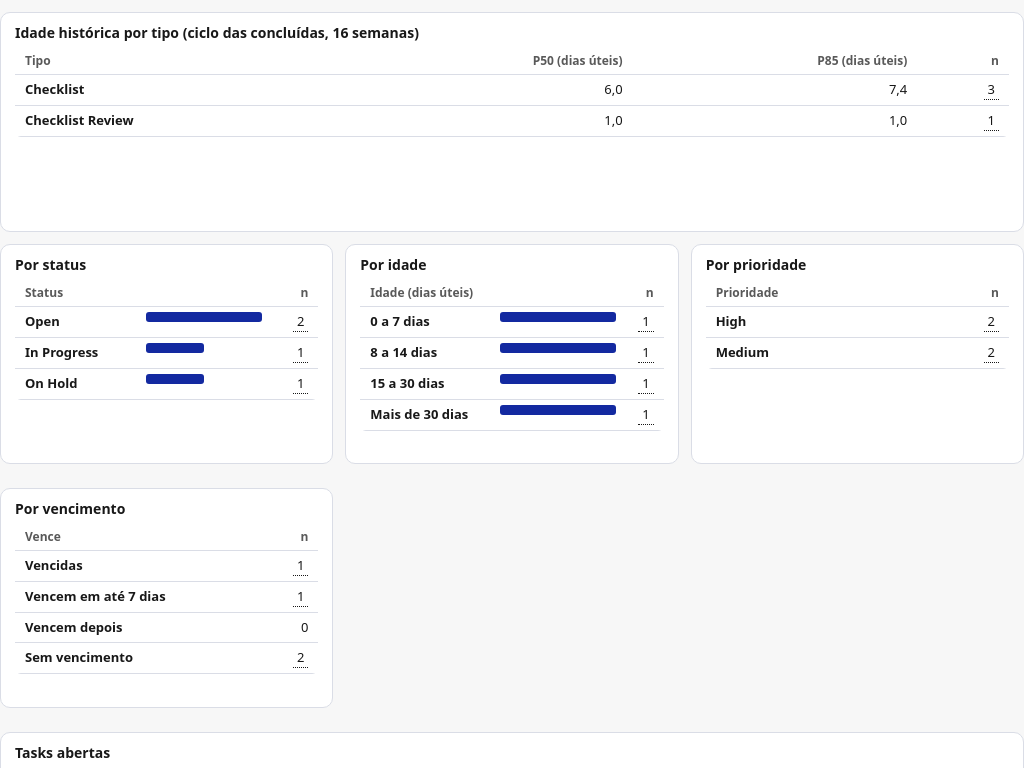
Test case: tela Abertas › contagemDeStatusAbreOSegmentoDoStatus
The image size is (1024, 768).
(page scrolled)
Click the button named "On Hold: 1" at [301, 384], box top-left (293, 374), bottom-right (308, 394)
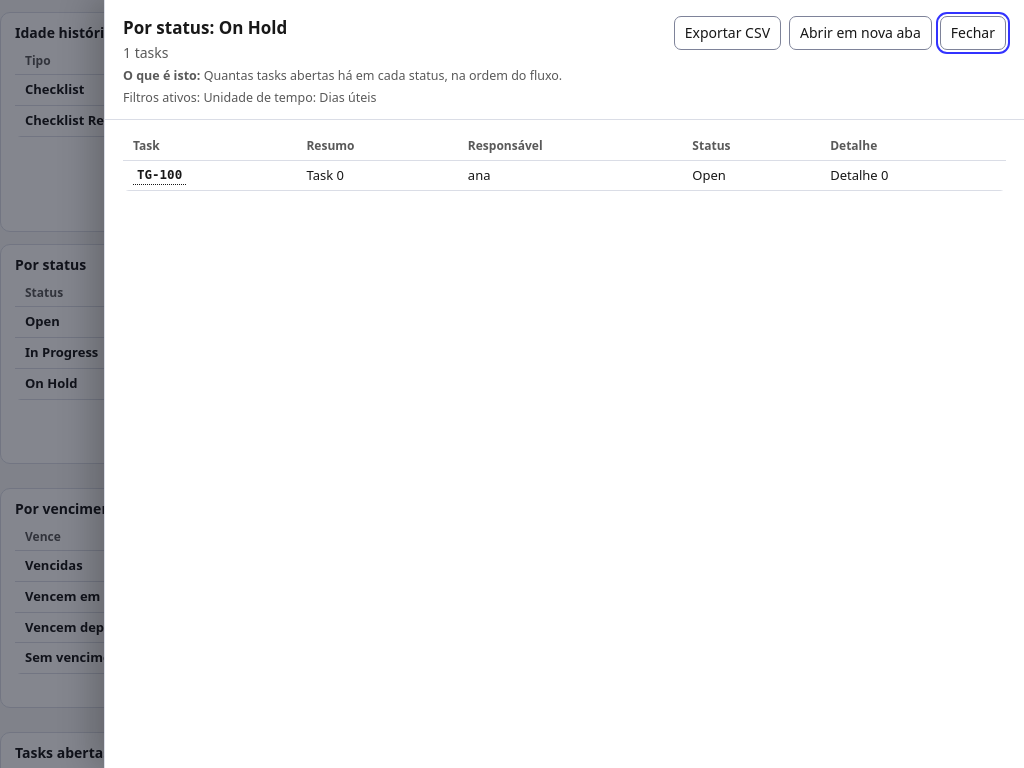
Now the dialog is shown
